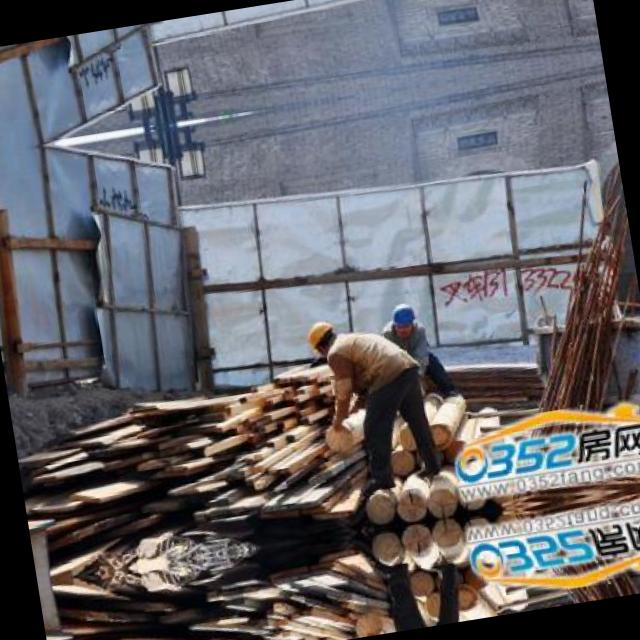helmet: (302, 314, 343, 358), (387, 298, 418, 338)
